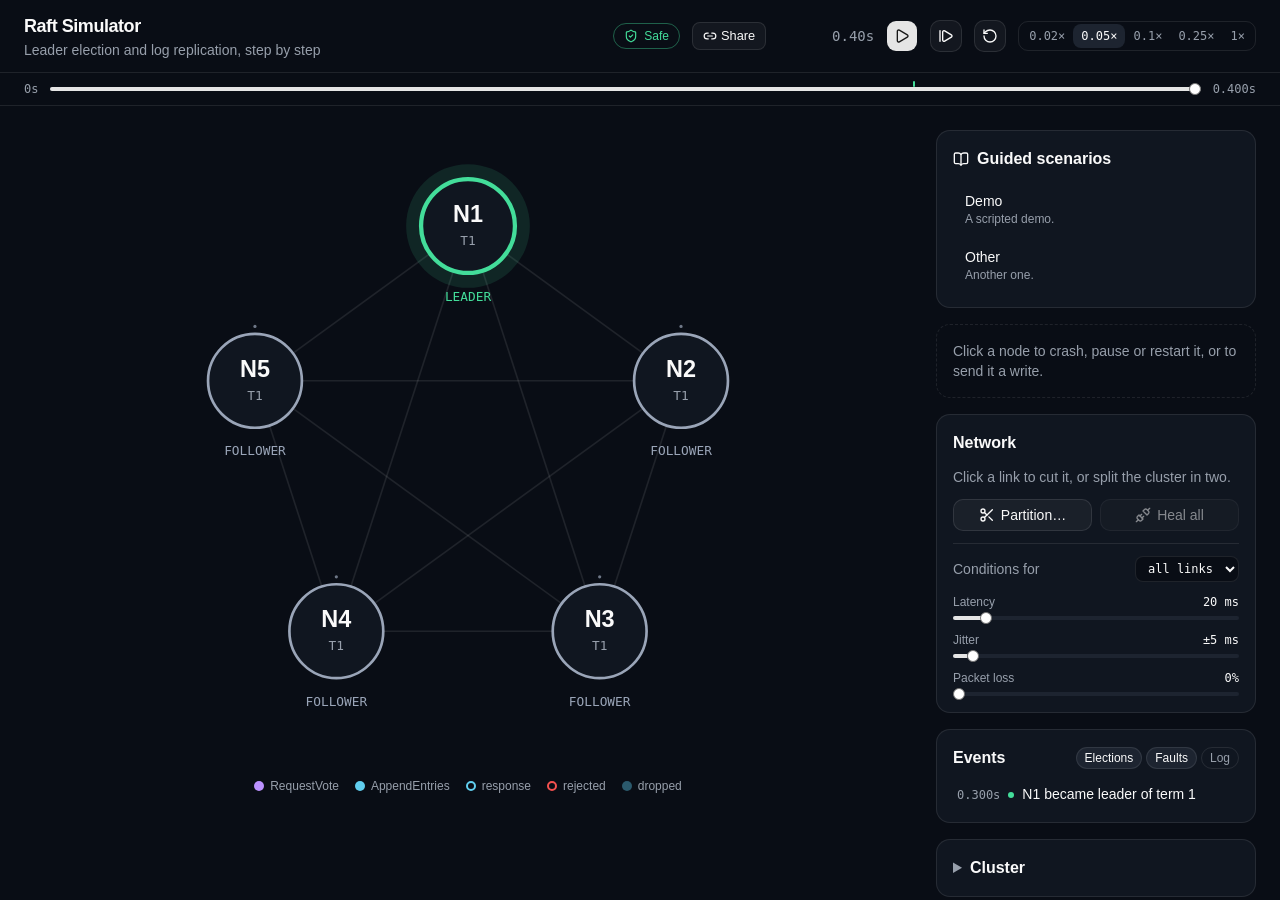
reset restarts with the current configuration
Click the button named "Reset" at (990, 36), box [974,20,1006,52]
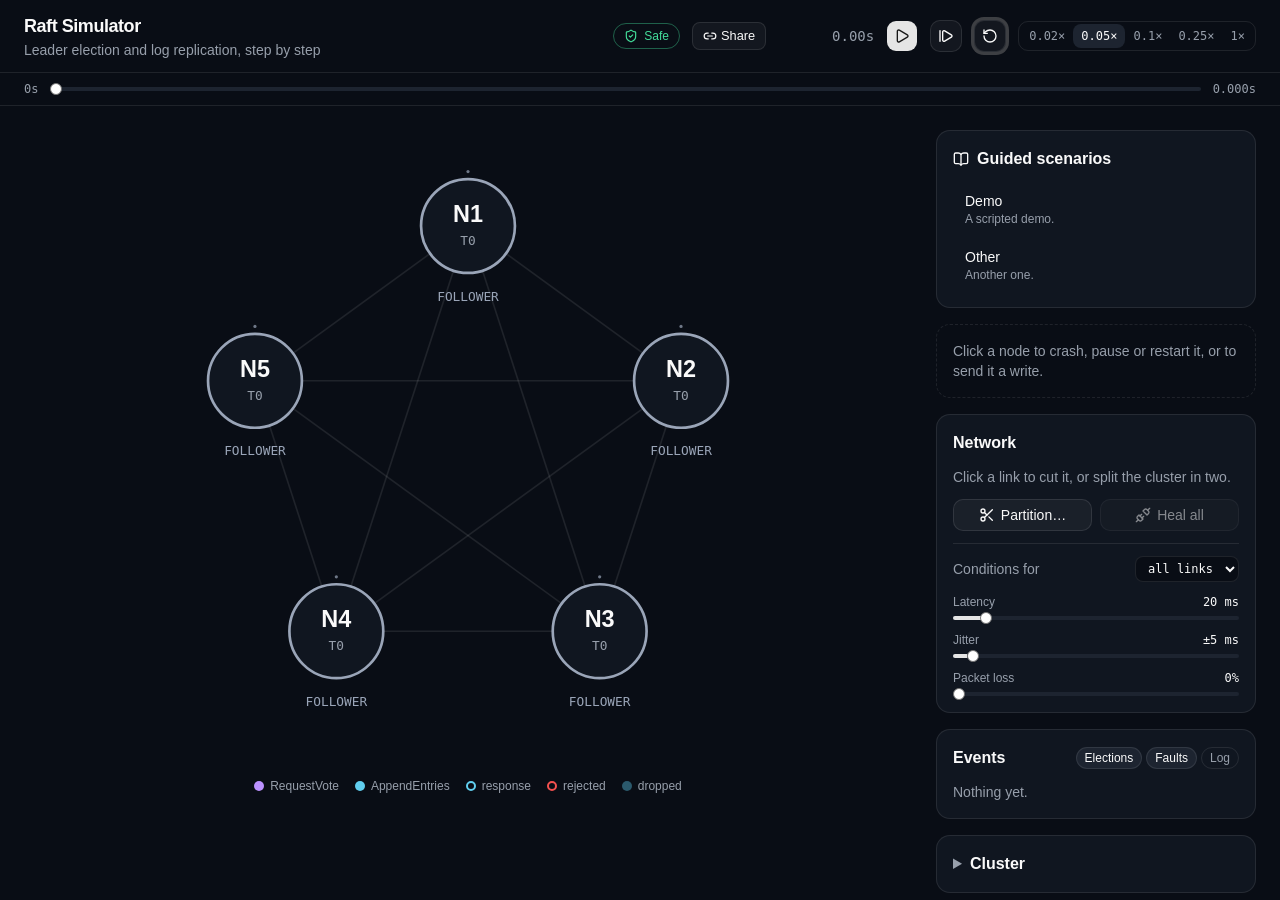
Expected: the text named "Simulated time" reads "0.00s", [832,28,874,44]
